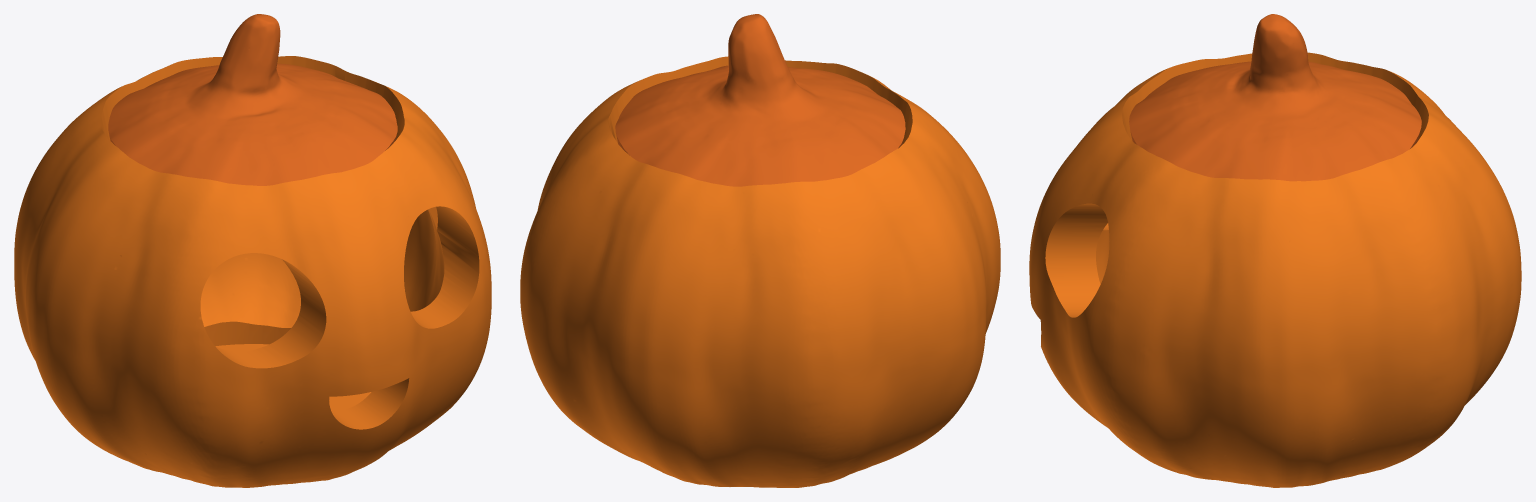
The model's file is jack-o-lantern.glb.
3 views of the same model, side by side, from view 1: azimuth 30°, elevation 25°; view 2: azimuth 150°, elevation 25°; view 3: azimuth 270°, elevation 25° (orthographic).
Parts seen in each view (by area): view 1: JackOLantern_Base_Smile_v02, JackOLantern_Top_v02; view 2: JackOLantern_Base_Smile_v02, JackOLantern_Top_v02; view 3: JackOLantern_Base_Smile_v02, JackOLantern_Top_v02.
Boxes of the visible parts, x1,y1,x2,y2 form: JackOLantern_Base_Smile_v02: (14,56,491,487); JackOLantern_Top_v02: (108,14,397,185); JackOLantern_Base_Smile_v02: (520,56,1000,487); JackOLantern_Top_v02: (615,14,905,186); JackOLantern_Base_Smile_v02: (1029,52,1521,487); JackOLantern_Top_v02: (1129,14,1421,181).
Bounding box in the file's own units: 0.0738 × 0.0679 × 0.0738.
